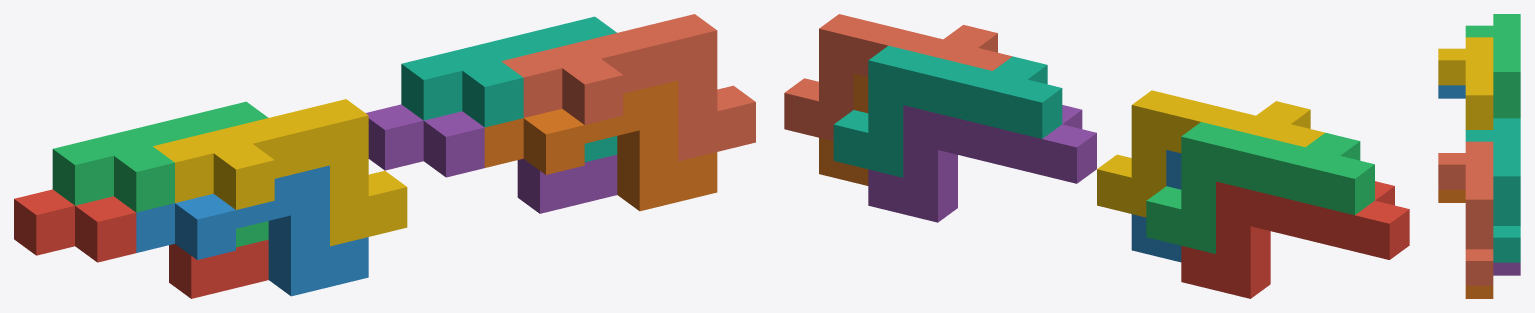
The model's file is tiling.obj.
3 views of the same model, side by side, from view 1: azimuth 30°, elevation 25°; view 2: azimuth 150°, elevation 25°; view 3: azimuth 270°, elevation 25° (orthographic). The views are drawn at different scales.
Parts seen in each view (by area): view 1: copy_1_domain_8, copy_1_domain_4, copy_1_domain_6, copy_1_domain_2, copy_1_domain_7, copy_1_domain_3, copy_1_domain_1, copy_1_domain_5; view 2: copy_1_domain_7, copy_1_domain_3, copy_1_domain_5, copy_1_domain_1, copy_1_domain_4, copy_1_domain_8, copy_1_domain_2, copy_1_domain_6; view 3: copy_1_domain_8, copy_1_domain_7, copy_1_domain_4, copy_1_domain_3, copy_1_domain_6, copy_1_domain_2, copy_1_domain_5.
Part boxes in pixels (box(x1,y1,x2,y2)): copy_1_domain_8: box(501, 14, 755, 161); copy_1_domain_4: box(153, 99, 407, 246); copy_1_domain_6: box(484, 80, 717, 211); copy_1_domain_2: box(136, 165, 368, 296); copy_1_domain_7: box(401, 16, 617, 162); copy_1_domain_3: box(52, 101, 268, 247); copy_1_domain_1: box(14, 189, 268, 298); copy_1_domain_5: box(366, 104, 617, 213); copy_1_domain_7: box(833, 45, 1062, 177); copy_1_domain_3: box(1146, 122, 1374, 253); copy_1_domain_5: box(868, 105, 1096, 222); copy_1_domain_1: box(1181, 181, 1409, 298); copy_1_domain_4: box(1097, 90, 1324, 217); copy_1_domain_8: box(784, 14, 1012, 141); copy_1_domain_2: box(1131, 150, 1181, 262); copy_1_domain_6: box(819, 73, 868, 185); copy_1_domain_8: box(1438, 141, 1493, 285); copy_1_domain_7: box(1465, 118, 1520, 262); copy_1_domain_4: box(1438, 37, 1493, 129); copy_1_domain_3: box(1465, 14, 1520, 118); copy_1_domain_6: box(1438, 189, 1493, 298); copy_1_domain_2: box(1438, 85, 1465, 98); copy_1_domain_5: box(1493, 262, 1520, 275).
Size of the model in its own units: 18 by 4 by 3.
